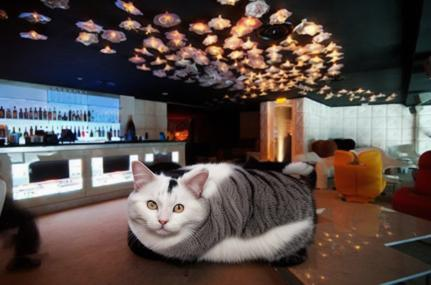cat: (126, 161, 316, 268)
chair: (334, 149, 388, 203)
sofa: (294, 151, 336, 190)
